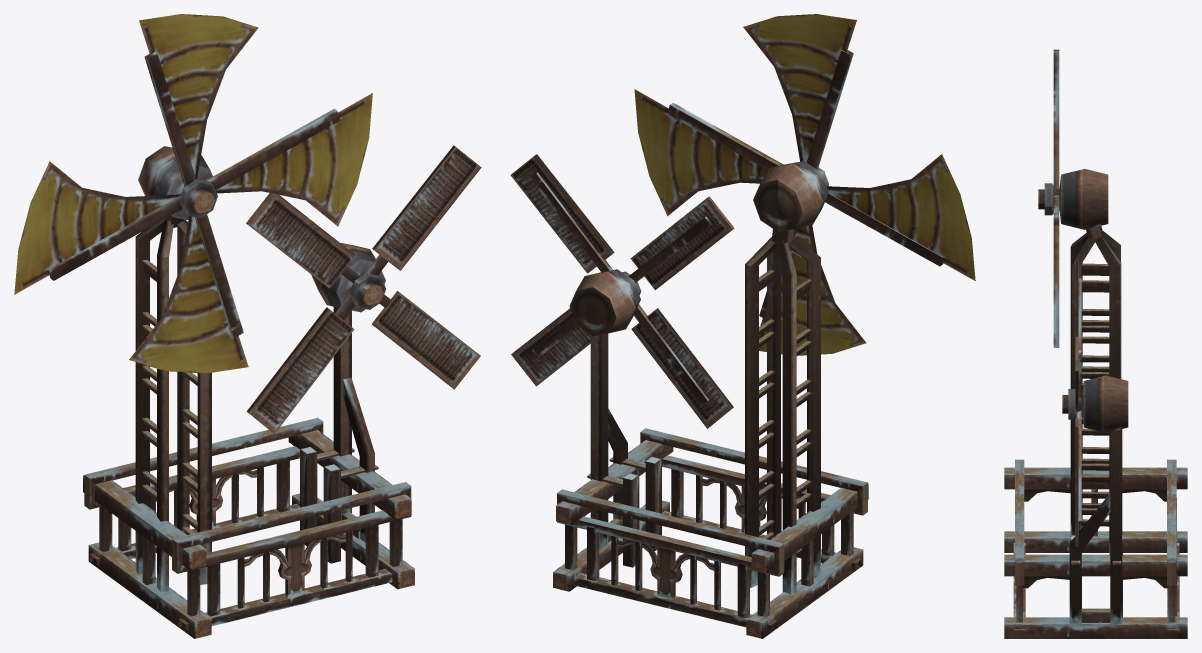
The model's file is yw_xuesebingfeng_mujia07.FBX.
3 renders of one model, left to right at view 1: azimuth 30°, elevation 25°; view 2: azimuth 150°, elevation 25°; view 3: azimuth 270°, elevation 25°, orthographic. The views are drawn at different scales.
Visible parts, largest first — view 1: yw_xuesebingfeng_mujia07; view 2: yw_xuesebingfeng_mujia07; view 3: yw_xuesebingfeng_mujia07.
Part boxes in pixels (left/top/right/bottom): yw_xuesebingfeng_mujia07: left=14, top=14, right=481, bottom=638; yw_xuesebingfeng_mujia07: left=510, top=14, right=975, bottom=638; yw_xuesebingfeng_mujia07: left=1004, top=49, right=1187, bottom=638.
Bounding box in the file's own units: 885 × 1067 × 340.
